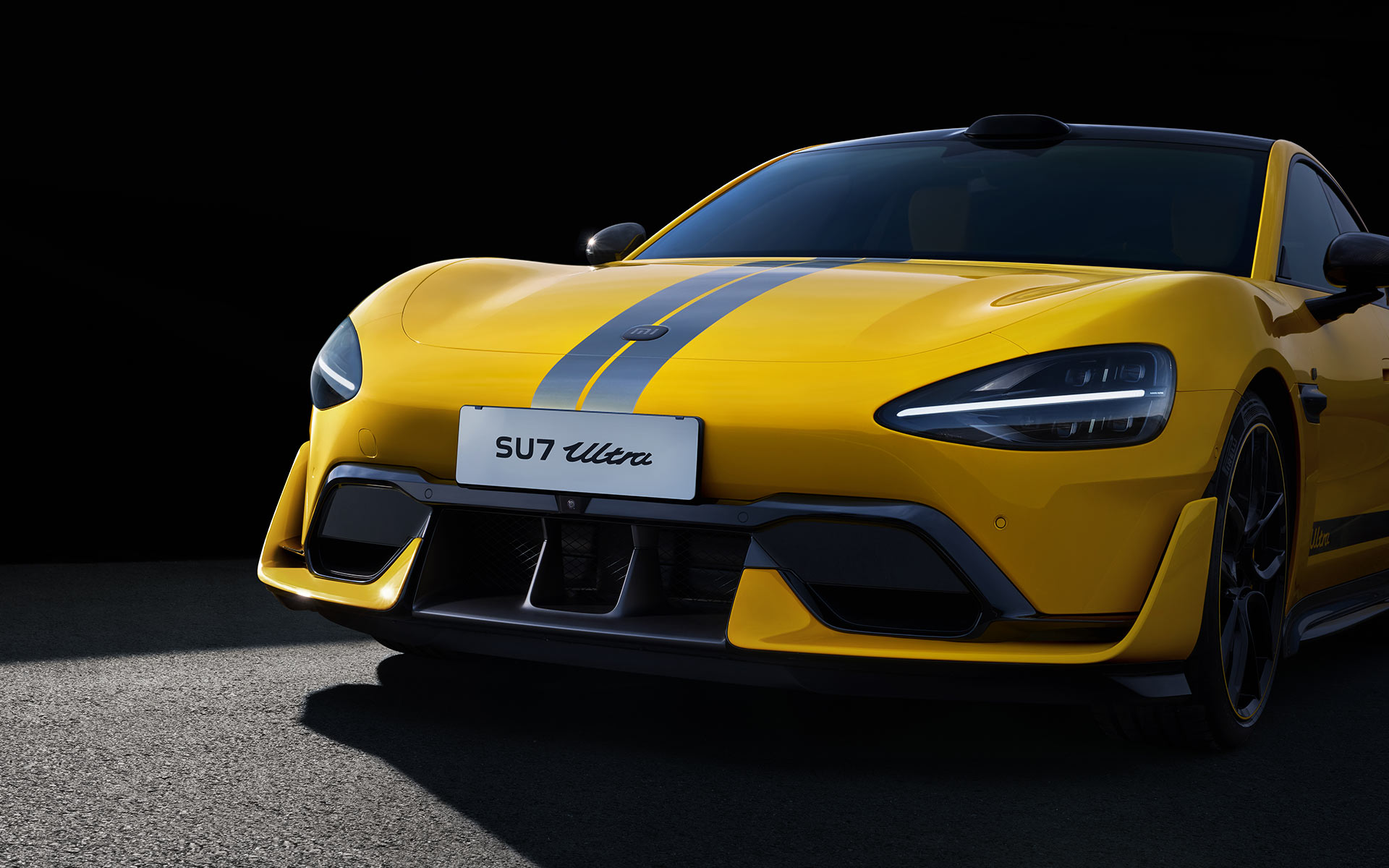su7: (273, 101, 1389, 754)
